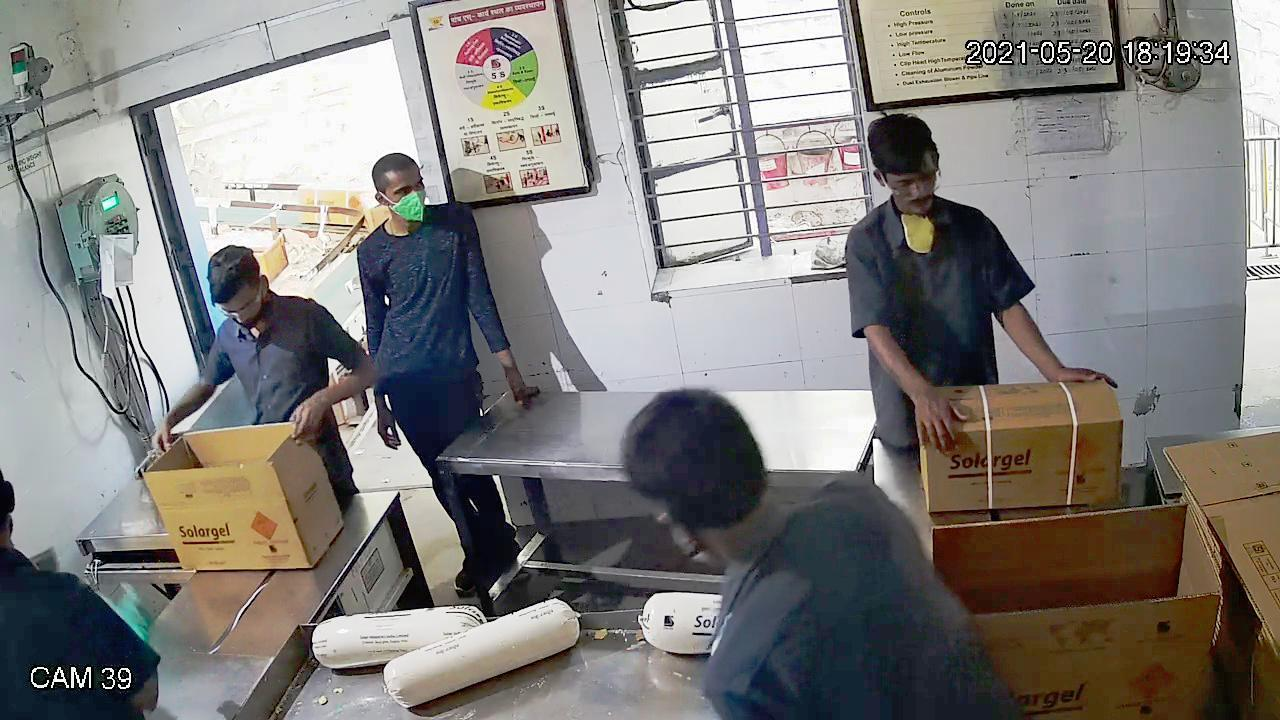no-welding-glass: (369, 178, 434, 203)
person: (624, 387, 1025, 716), (844, 111, 1111, 551), (348, 149, 539, 604), (155, 244, 378, 511)
